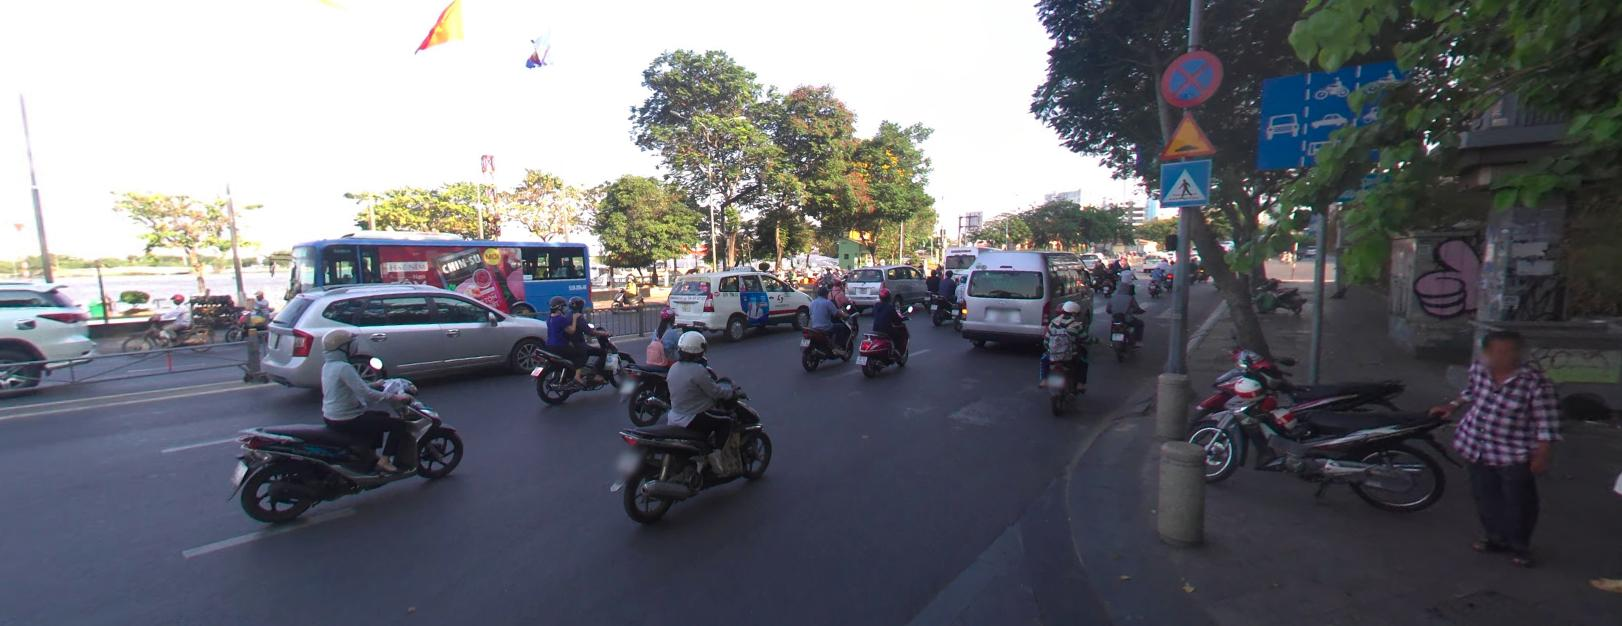Cam dung va do: (1158, 47, 1223, 107)
Nguy hiem: (1157, 111, 1216, 157)
